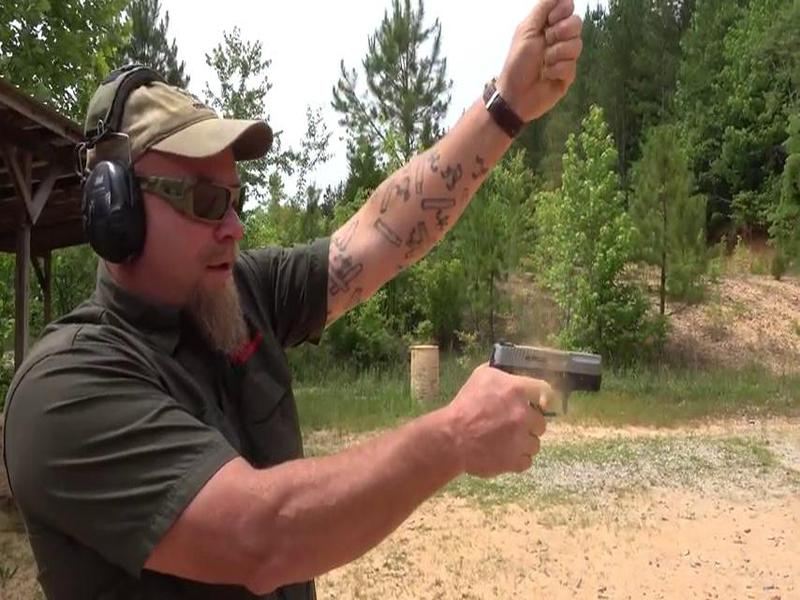Pistola: (486, 328, 627, 435)
